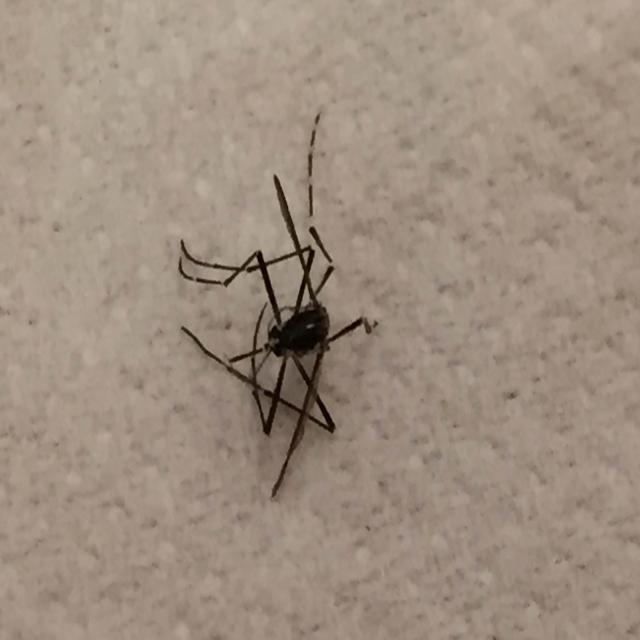albopictus: (165, 88, 387, 515)
